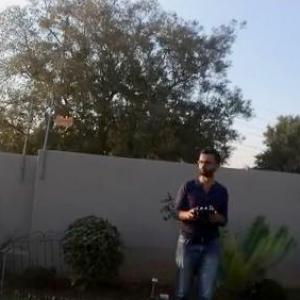follow: (168, 142, 234, 299)
